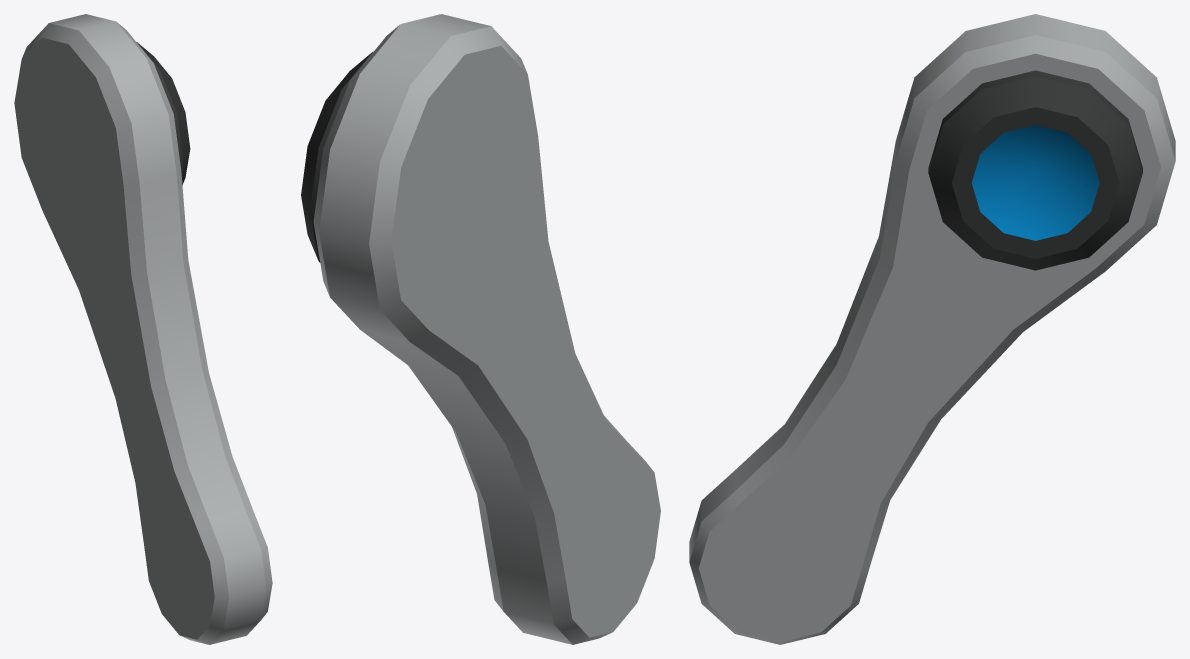
The model's file is Drone_002_L_Arm_001.fbx.
The picture shows the model from 3 angles, left to right: view 1: azimuth 30°, elevation 25°; view 2: azimuth 150°, elevation 25°; view 3: azimuth 270°, elevation 25°; orthographic projection. The views are drawn at different scales.
Visible parts, largest first — view 1: Drone_002_L_Arm_001; view 2: Drone_002_L_Arm_001; view 3: Drone_002_L_Arm_001.
Part boxes in pixels (x1,y1,x2,y2): Drone_002_L_Arm_001: [14, 14, 272, 644]; Drone_002_L_Arm_001: [301, 14, 660, 644]; Drone_002_L_Arm_001: [689, 14, 1175, 644].
Size of the model in its own units: 4.35 by 18.62 by 25.78.
